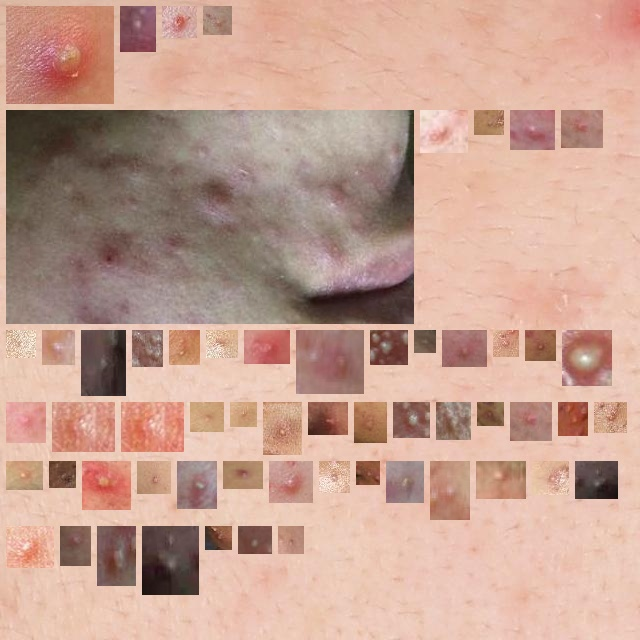pustule: (14, 118, 475, 316), (14, 14, 106, 96), (304, 338, 356, 386), (150, 534, 191, 588), (60, 410, 107, 444), (129, 410, 176, 444), (89, 338, 118, 388), (570, 338, 604, 378), (90, 469, 123, 502), (438, 469, 462, 512), (105, 534, 128, 578), (428, 118, 460, 145), (271, 410, 294, 447), (14, 534, 46, 560), (185, 469, 209, 501), (484, 469, 518, 491), (277, 469, 305, 495), (583, 469, 610, 495), (518, 118, 547, 142), (450, 338, 479, 359), (128, 14, 148, 44), (14, 410, 38, 435), (518, 410, 544, 433), (569, 118, 595, 140), (394, 469, 416, 495), (252, 338, 282, 356), (362, 410, 379, 435), (401, 410, 422, 430), (378, 338, 400, 357), (444, 410, 463, 432), (316, 410, 340, 427), (540, 469, 561, 487), (68, 534, 83, 558), (50, 338, 67, 357), (140, 338, 155, 359), (145, 469, 163, 486), (170, 14, 189, 30), (231, 469, 255, 481), (177, 338, 192, 357), (14, 469, 35, 482), (602, 410, 619, 425), (198, 410, 216, 424), (566, 410, 580, 428), (327, 469, 342, 485), (533, 338, 548, 353), (246, 534, 264, 546), (214, 338, 230, 350), (211, 14, 224, 27), (14, 338, 28, 350), (482, 118, 496, 127), (57, 469, 68, 480), (286, 534, 296, 546), (501, 338, 511, 349), (238, 410, 249, 419), (485, 410, 496, 418), (213, 534, 224, 542), (364, 469, 372, 477), (422, 338, 428, 345)
